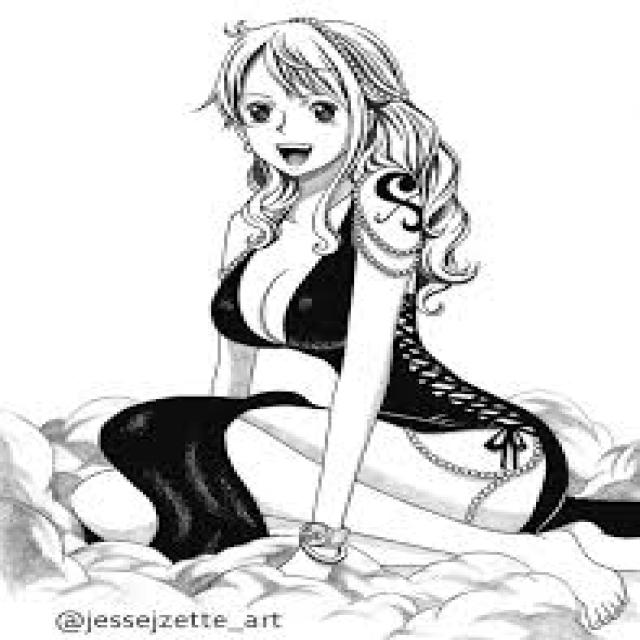Nami: (68, 20, 640, 622)
